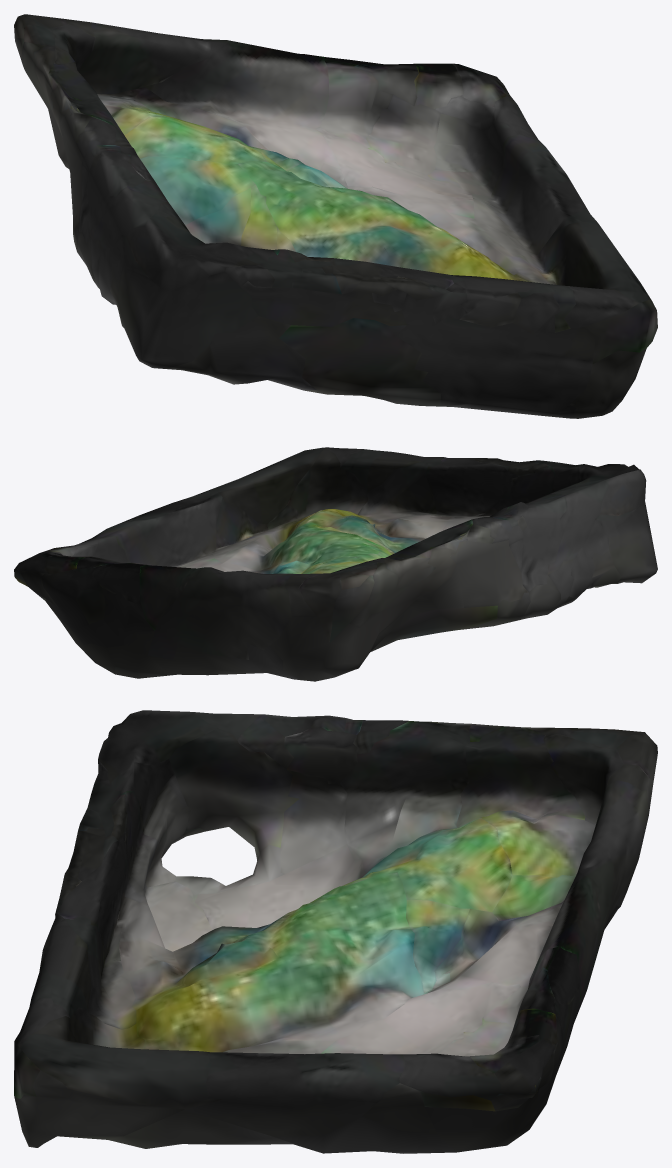
The model's file is hall.glb.
3 renders of one model, top to bottom at view 1: azimuth 30°, elevation 25°; view 2: azimuth 150°, elevation 25°; view 3: azimuth 270°, elevation 25°, orthographic. The views are drawn at different scales.
Size of the model in its own units: 0.726 by 0.3264 by 0.7076.
Materials: 1 (1 with a texture image).
